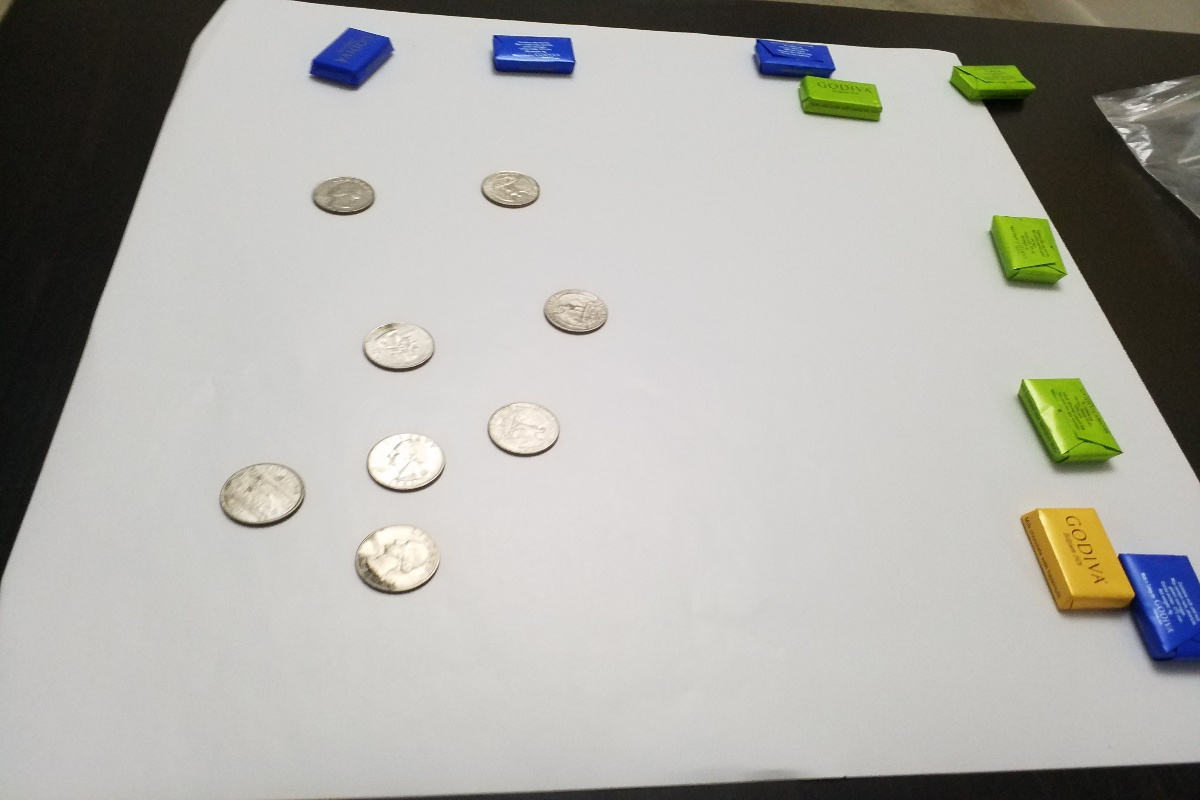chocolate_blue: (300, 22, 401, 91), (484, 30, 586, 78)
chocolate_green: (1011, 368, 1127, 480), (983, 205, 1073, 293), (787, 73, 893, 130)
chocolate_yellow: (1011, 503, 1132, 623)
coin_quarter: (213, 457, 314, 532), (348, 517, 439, 600), (360, 423, 454, 500), (475, 392, 565, 469), (532, 281, 618, 344), (357, 318, 440, 378), (304, 165, 385, 225), (468, 159, 543, 212)
